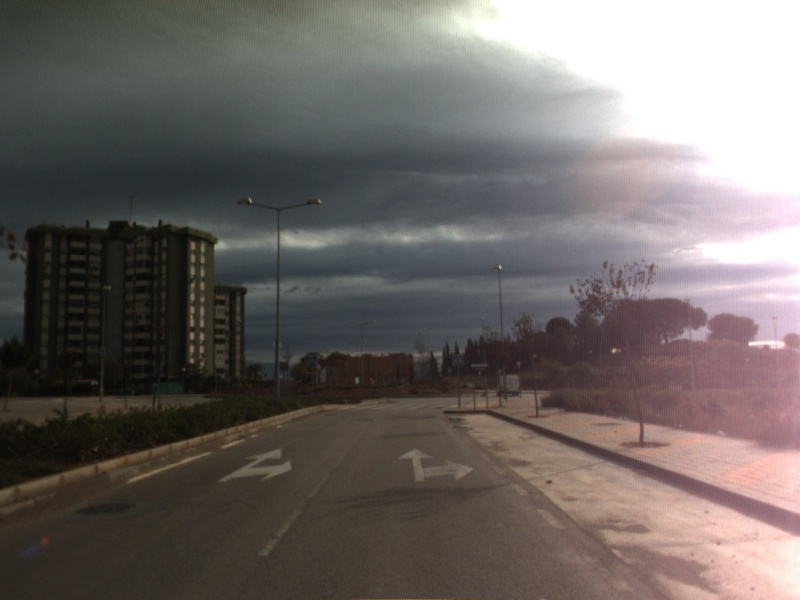STRAIGHT_RIGHT: (215, 446, 293, 484), (396, 446, 476, 483)
